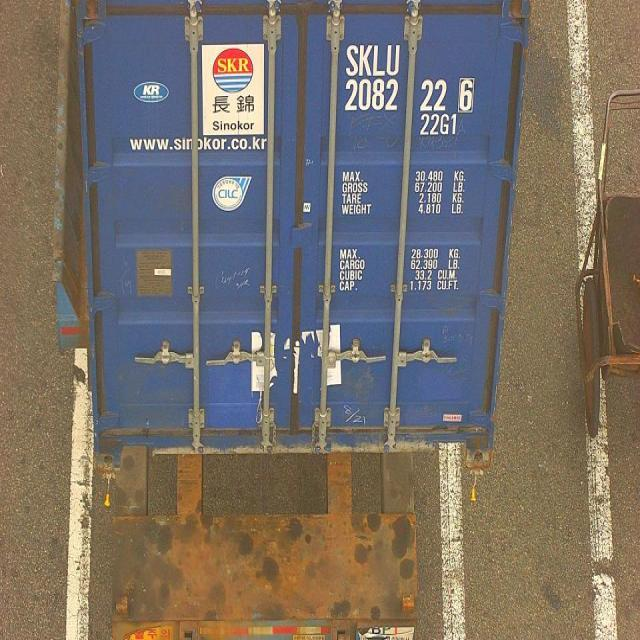ISO: (422, 114, 459, 136)
container_number: (346, 40, 476, 110)
